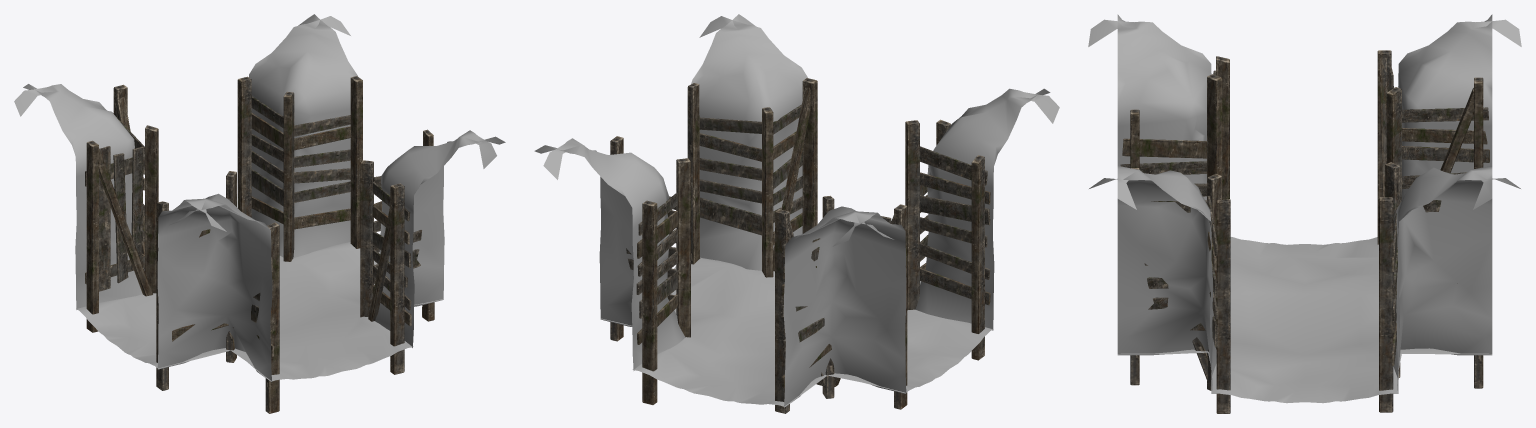
Rendered from Ground_X_Intersection_Wood.fbx.
The picture shows the model from 3 angles, left to right: view 1: azimuth 30°, elevation 25°; view 2: azimuth 150°, elevation 25°; view 3: azimuth 270°, elevation 25°; orthographic projection. The views are drawn at different scales.
Parts seen in each view (by area): view 1: Ground_X_Intersection_Wood_LOD0; view 2: Ground_X_Intersection_Wood_LOD0; view 3: Ground_X_Intersection_Wood_LOD0.
Boxes of the visible parts, x1=… form: Ground_X_Intersection_Wood_LOD0: x1=14, y1=14, x2=505, y2=413; Ground_X_Intersection_Wood_LOD0: x1=534, y1=14, x2=1059, y2=413; Ground_X_Intersection_Wood_LOD0: x1=1088, y1=14, x2=1521, y2=413.
Size of what is drawn, in the model's own units: 463 by 305 by 463.
